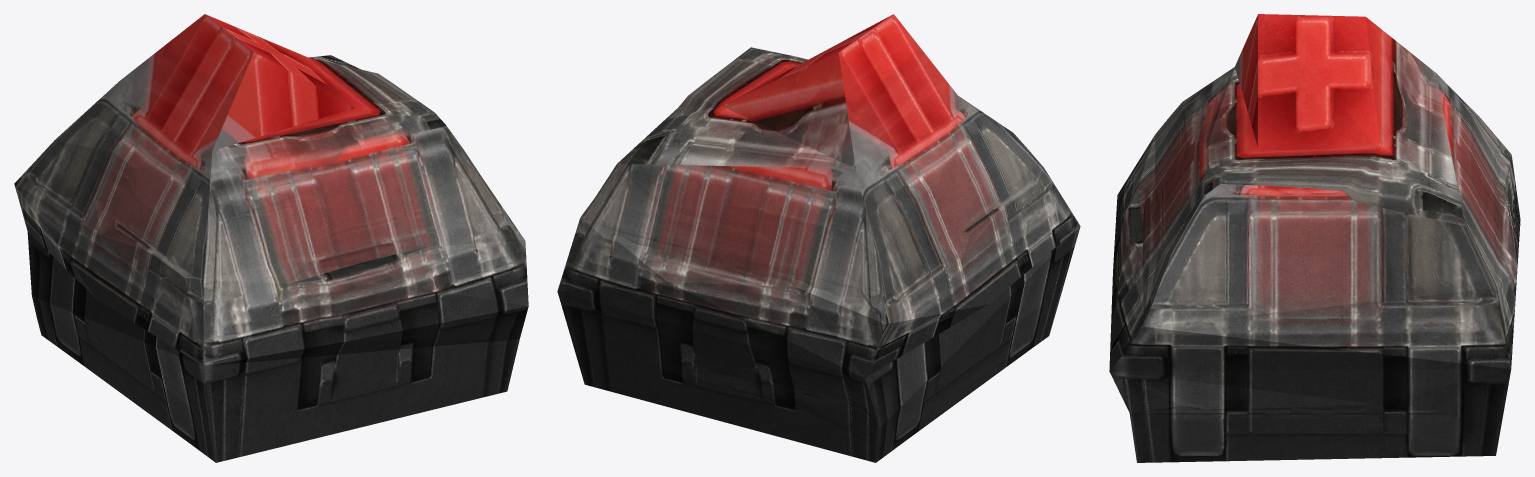
File: switch.glb
The picture shows the model from 3 angles, left to right: view 1: azimuth 30°, elevation 25°; view 2: azimuth 150°, elevation 25°; view 3: azimuth 270°, elevation 25°; orthographic projection. The views are drawn at different scales.
Parts seen in each view (by area): view 1: switch; view 2: switch; view 3: switch.
Boxes of the visible parts, <box> form: switch: <box>14,14,528,462</box>; switch: <box>557,14,1080,462</box>; switch: <box>1109,14,1520,462</box>.
Size of the model in its own units: 15.02 by 14.45 by 15.28.
Materials: 1 (1 with a texture image).
